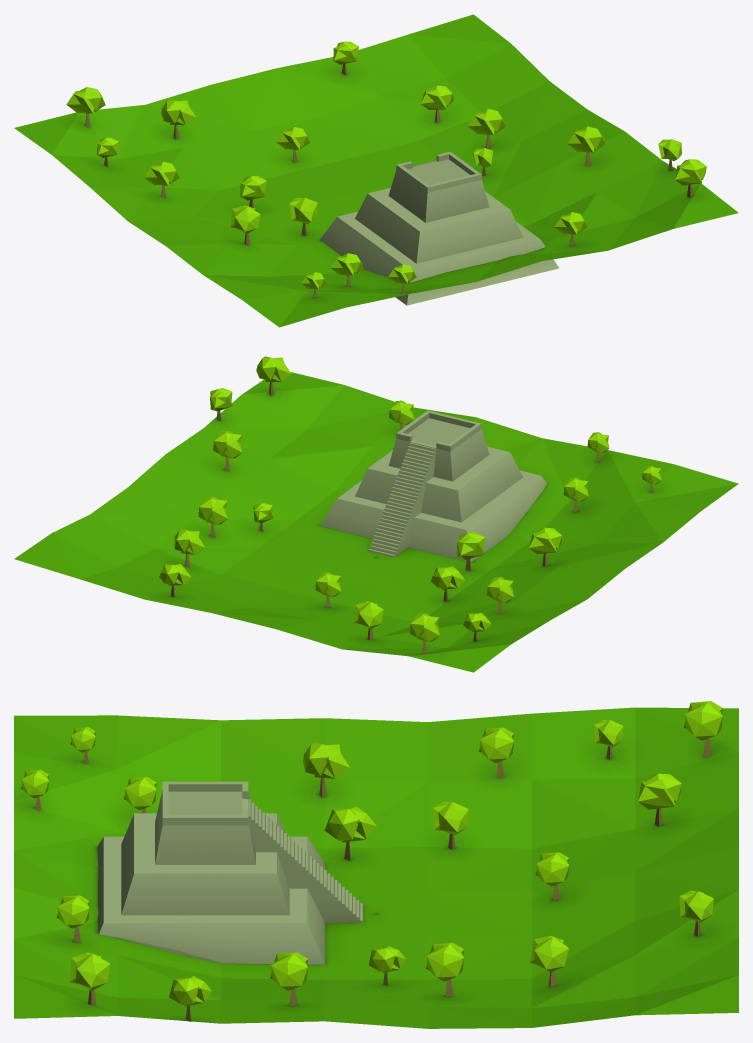
Rendered from aztec-temple.obj.
3 renders of one model, top to bottom at view 1: azimuth 30°, elevation 25°; view 2: azimuth 150°, elevation 25°; view 3: azimuth 270°, elevation 25°, orthographic. The views are drawn at different scales.
Parts seen in each view (by area): view 1: terrain, temple_002, tree_original_010, tree_original_008, tree_original_016, tree_original_021, tree_original_013, tree_original_015, tree_original_006, tree_original_020, tree_original_007, tree_original_009 (+4 smaller); view 2: terrain, temple_002, tree_original_015, tree_original_013, tree_original_010, tree_original_008, tree_original_006, tree_original_021, tree_original_016, tree_original_020, tree_original_018, tree_original_007 (+3 smaller); view 3: terrain, temple_002, tree_original_006, tree_original_015, tree_original_021, tree_original_010, tree_original_013, tree_original_008, tree_original_016, tree_original_020, tree_original_007, tree_original_018 (+9 smaller).
Boxes of the visible parts, x1,y1,x2,y2 form: terrain: (14,14,738,327); temple_002: (320,151,559,305); tree_original_010: (66,87,105,127); tree_original_008: (467,109,505,148); tree_original_016: (567,126,605,165); tree_original_021: (161,99,195,139); tree_original_013: (675,159,706,197); tree_original_015: (230,205,260,245); tree_original_006: (289,197,317,235); tree_original_020: (420,85,453,122); tree_original_007: (144,161,179,197); tree_original_009: (276,127,310,161); terrain: (14,372,738,672); temple_002: (320,410,546,562); tree_original_015: (529,527,561,566); tree_original_013: (256,356,291,396); tree_original_010: (410,613,439,653); tree_original_008: (198,496,227,537); tree_original_006: (457,532,485,571); tree_original_021: (354,601,383,639); tree_original_016: (213,430,242,471); tree_original_020: (174,529,204,566); tree_original_018: (431,566,464,602); tree_original_007: (487,577,513,614); terrain: (14,707,738,1028); temple_002: (97,781,363,964); tree_original_006: (324,806,376,860); tree_original_015: (303,742,349,797); tree_original_021: (638,773,681,826); tree_original_010: (683,701,722,757); tree_original_013: (70,952,110,1005); tree_original_008: (425,942,464,996); tree_original_016: (270,952,307,1005); tree_original_020: (530,935,568,987); tree_original_007: (479,727,513,778); tree_original_018: (432,801,468,849).
Bounding box in the file's own units: 241 × 42.15 × 238.
3 materials, 3 textured.
